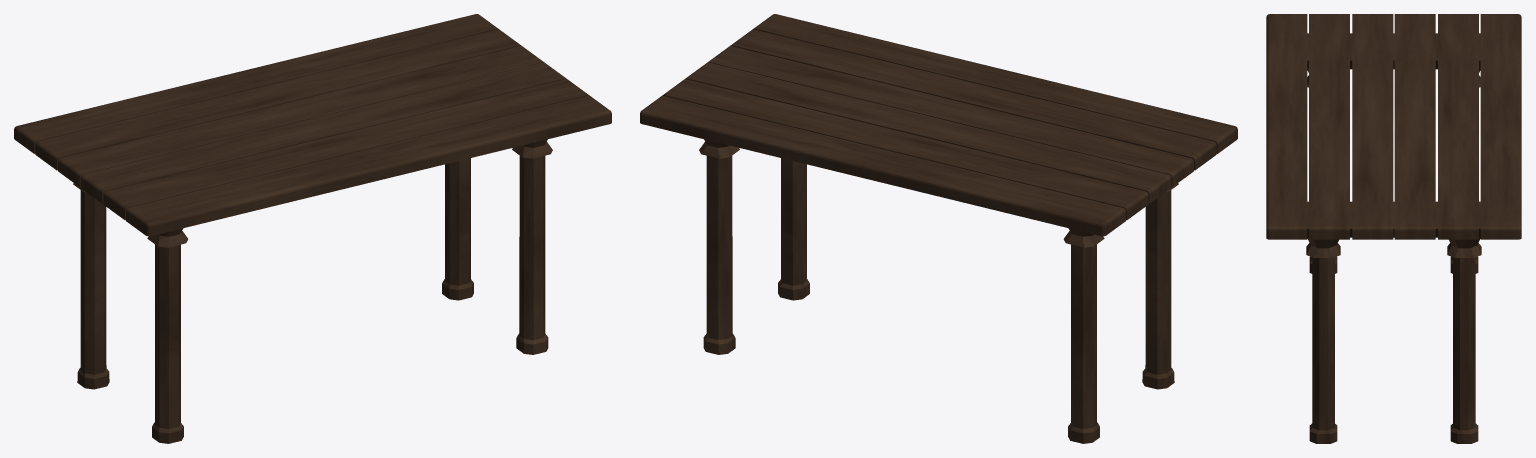
File: woodstand01.fbx
3 renders of one model, left to right at view 1: azimuth 30°, elevation 25°; view 2: azimuth 150°, elevation 25°; view 3: azimuth 270°, elevation 25°, orthographic. The views are drawn at different scales.
Visible parts, largest first — view 1: wooden stand.003; view 2: wooden stand.003; view 3: wooden stand.003.
Boxes of the visible parts, x1=… form: wooden stand.003: x1=14, y1=14, x2=611, y2=443; wooden stand.003: x1=640, y1=14, x2=1237, y2=443; wooden stand.003: x1=1266, y1=14, x2=1521, y2=443.
Size of the model in its own units: 196 by 99.31 by 98.36.
